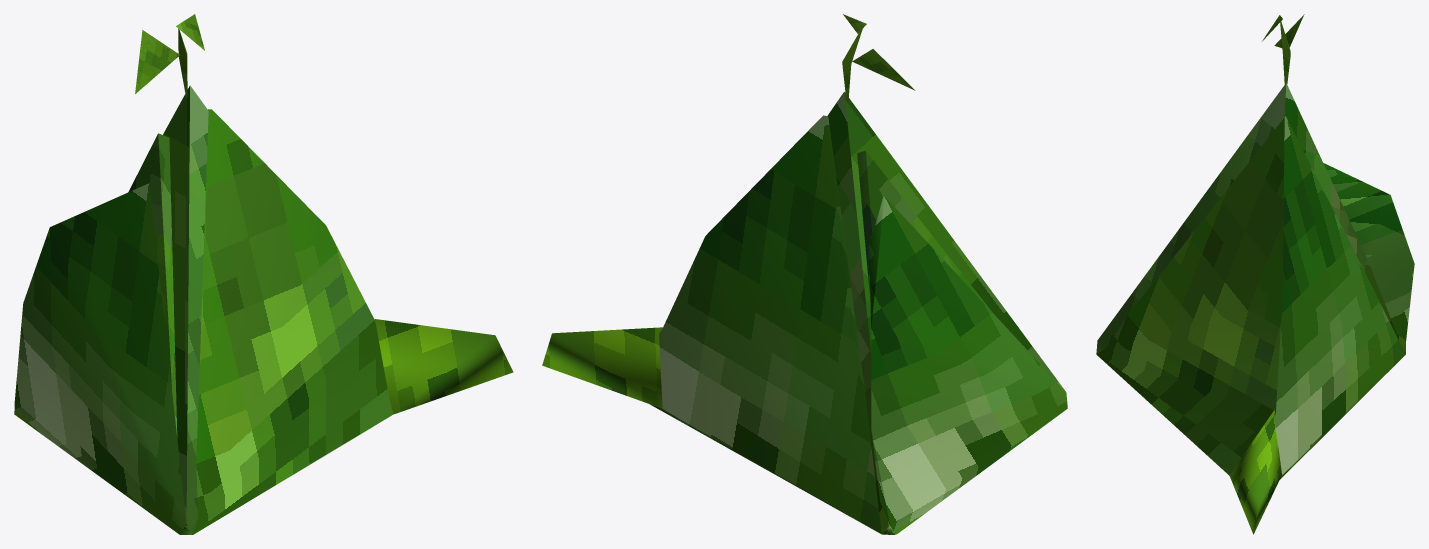
The model's file is edb_food_vegetable_s4_l2.fbx.
3 views of the same model, side by side, from view 1: azimuth 30°, elevation 25°; view 2: azimuth 150°, elevation 25°; view 3: azimuth 270°, elevation 25° (orthographic). The views are drawn at different scales.
Visible parts, largest first — view 1: mesh_node; view 2: mesh_node; view 3: mesh_node.
Part boxes in pixels (left/top/right/bottom): mesh_node: left=14, top=14, right=513, bottom=534; mesh_node: left=542, top=14, right=1067, bottom=534; mesh_node: left=1096, top=14, right=1414, bottom=534.
Size of the model in its own units: 0.2097 by 0.2014 by 0.1521.
1 material, 1 textured.
